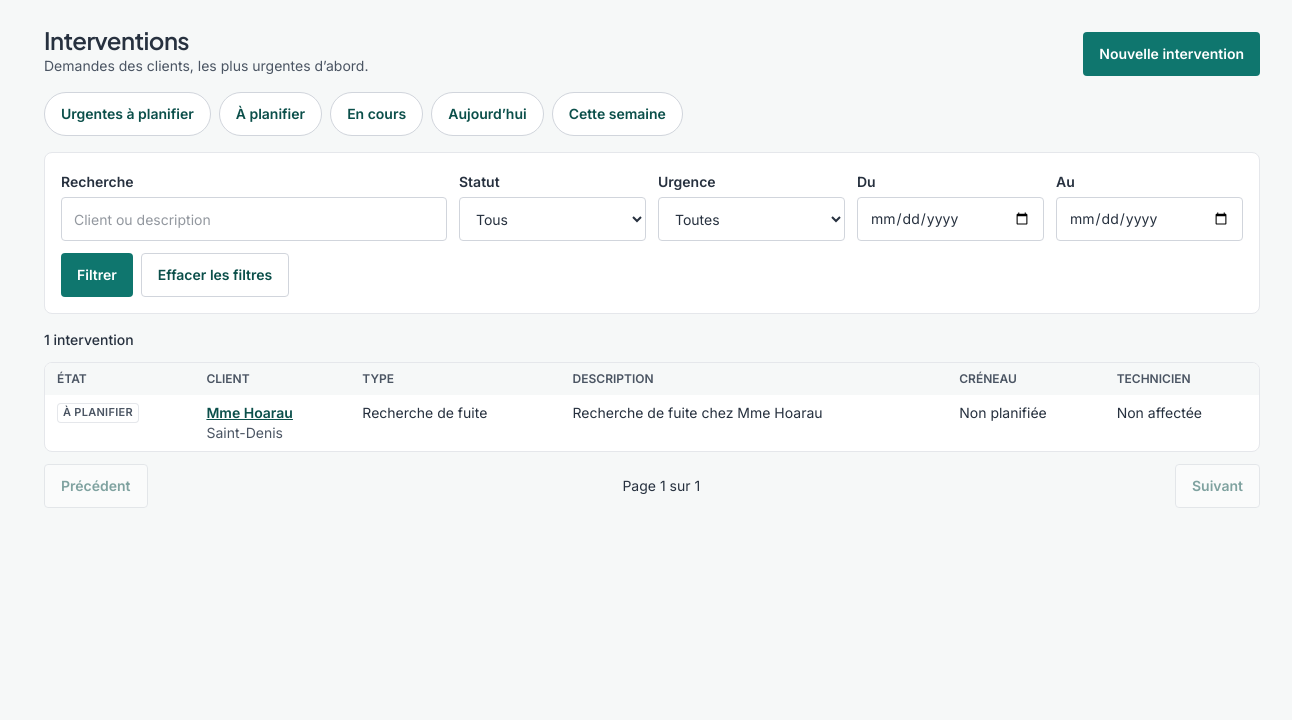
liste des interventions (US15) › US15 : « Urgentes à planifier » remplit les filtres et l’adresse en un clic
Expected: the table is shown, [45,363,1259,451]
Click the button "Urgentes à planifier".
click(127, 114)  # box [44,92,211,136]
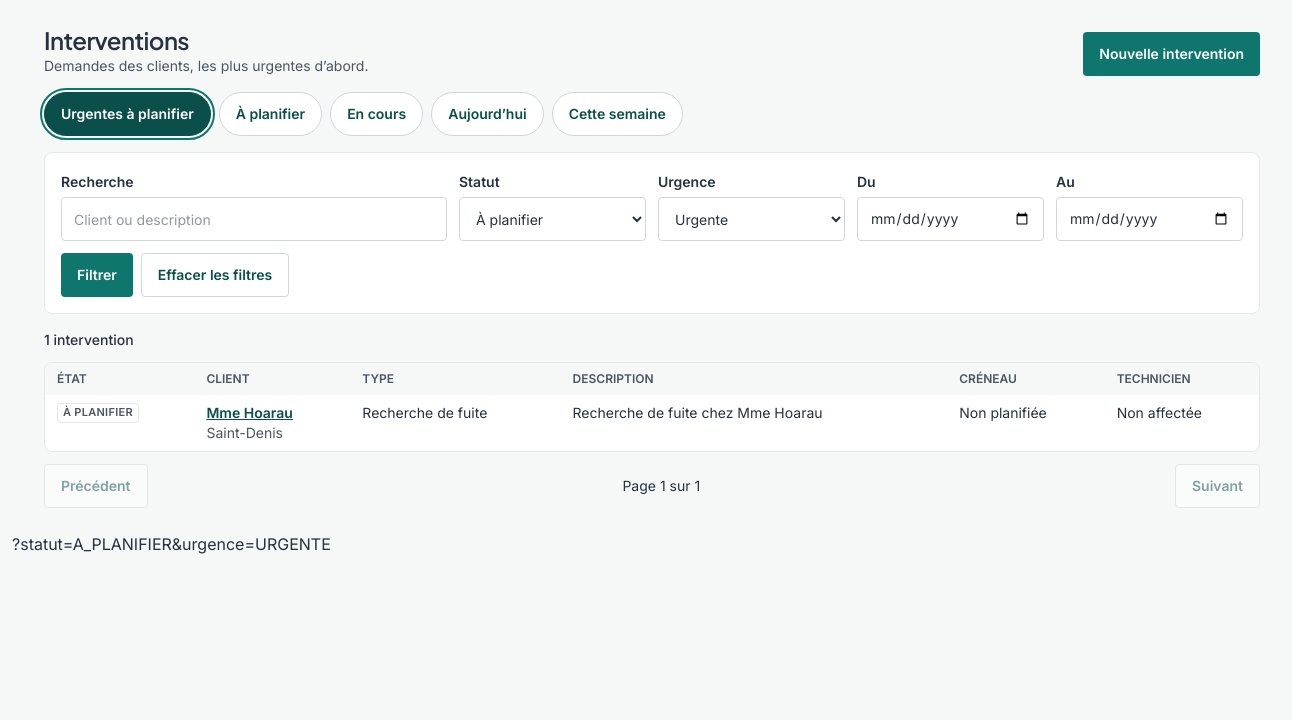
Result: the text named "Adresse" reads "?statut=A_PLANIFIER&urgence=URGENTE" at [12,534,331,554]
Result: the dropdown labelled "Statut" shows "À planifier" at [459,197,646,241]
Result: the dropdown labelled "Urgence" shows "Urgente" at [658,197,845,241]
